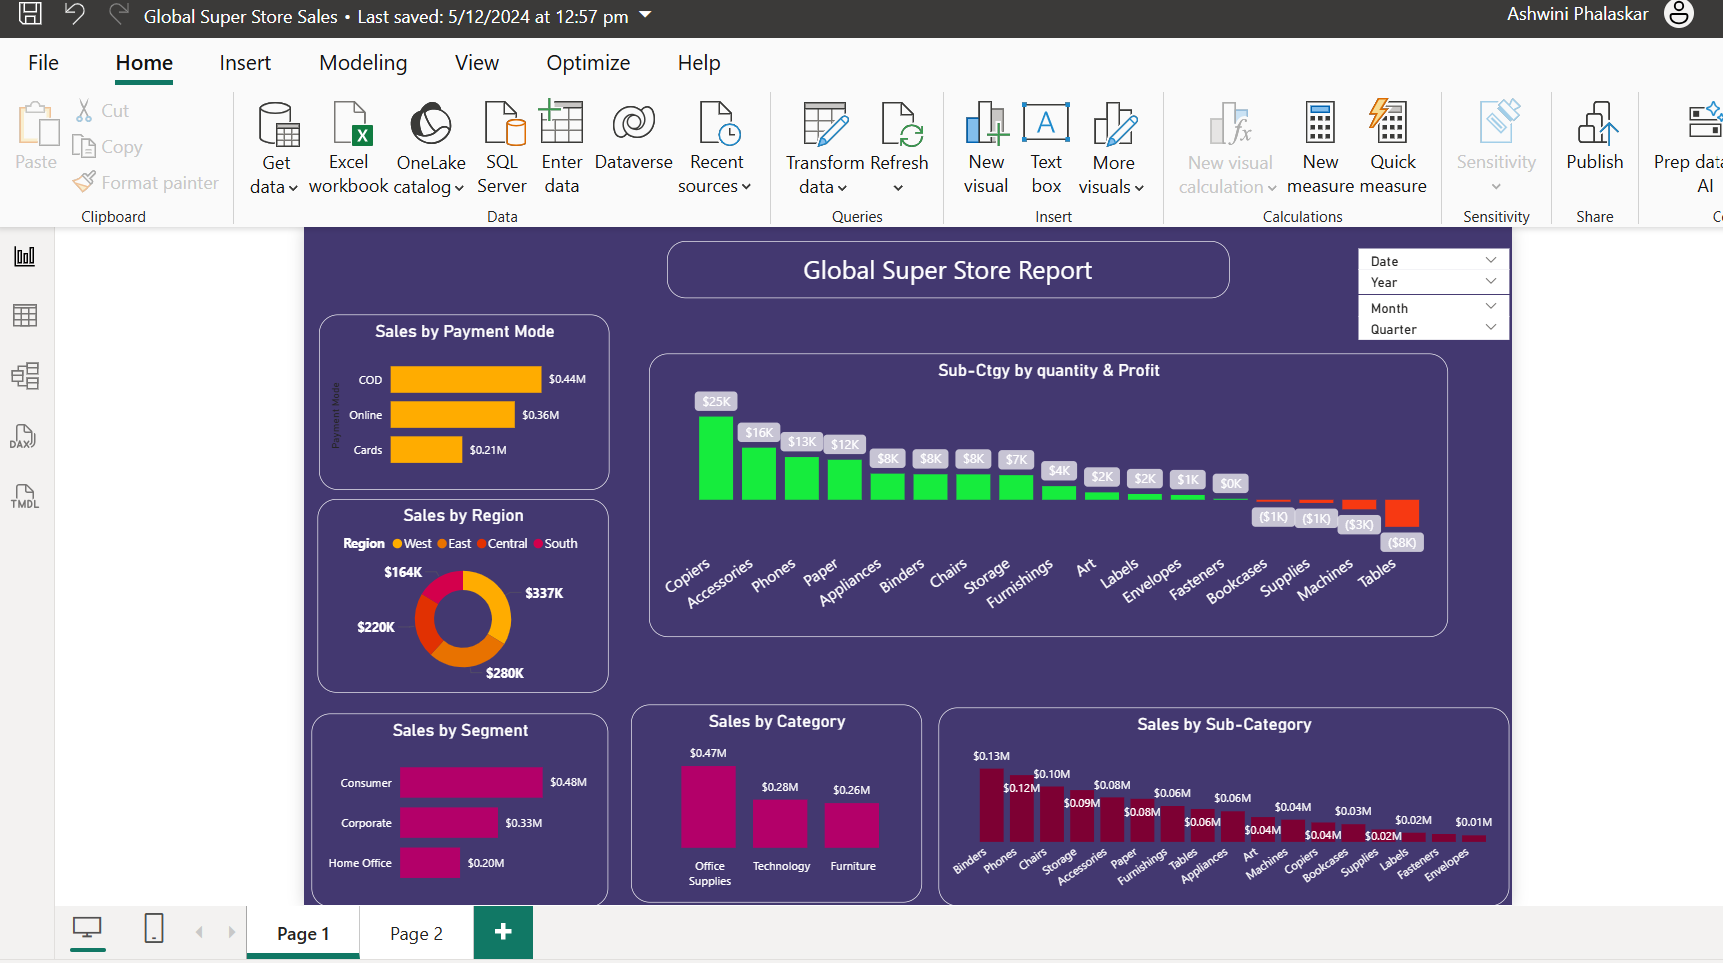

Layout of this report page (visuals, bound fields, positions):
{"tool":"powerbi","page":{"name":"Page 1","canvas":[1280,720],"ordinal":0},"visuals":[{"type":"slicer","title":"Year","fields":{"Values":["Global SuperStore_Sales_Dataset.Order Date.Variation.Date Hierarchy.Year"]},"box":[1118.2,46.8,159.7,25.9],"z":0,"group":"g1"},{"type":"barChart","title":"Sales by Payment Mode","fields":{"Y":["Sum(Global SuperStore_Sales_Dataset.Sales)"],"Category":["Global SuperStore_Sales_Dataset.Payment Mode"]},"box":[15.2,93.9,308.3,185.8],"z":0,"group":"g2"},{"type":"textbox","box":[384.5,15.3,596.5,60.4],"z":1000,"group":"g2"},{"type":"slicer","title":"Month","fields":{"Values":["Global SuperStore_Sales_Dataset.Order Date.Variation.Date Hierarchy.Month"]},"box":[1118.2,72.6,159.7,22.9],"z":1000,"group":"g1"},{"type":"group","id":"g1","title":"Slicer","box":[1118.2,23.9,159.1,97],"z":2000},{"type":"slicer","title":"Quarter","fields":{"Values":["Global SuperStore_Sales_Dataset.Order Date.Variation.Date Hierarchy.Quarter"]},"box":[1118.2,95.5,159.7,25.3],"z":2000,"group":"g1"},{"type":"donutChart","title":"Sales by Region","fields":{"Y":["Sum(Global SuperStore_Sales_Dataset.Sales)"],"Category":["Global SuperStore_Sales_Dataset.Region"]},"box":[14.4,289.5,308.6,205.2],"z":2000,"group":"g2"},{"type":"slicer","title":"Date","fields":{"Values":["Global SuperStore_Sales_Dataset.Order Date"]},"box":[1118.2,23.9,159.7,22.9],"z":3000,"group":"g1"},{"type":"columnChart","title":"Sales by Category","fields":{"Y":["Sum(Global SuperStore_Sales_Dataset.Sales)"],"Category":["Global SuperStore_Sales_Dataset.Category"]},"box":[345.6,506.3,308.6,210],"z":3000,"group":"g2"},{"type":"clusteredBarChart","title":"Sales by Segment","fields":{"Category":["Global SuperStore_Sales_Dataset.Segment"],"Y":["Sum(Global SuperStore_Sales_Dataset.Sales)"]},"box":[7.5,515.8,314.9,205.2],"z":4000,"group":"g2"},{"type":"group","id":"g2","title":"main visual","box":[7.5,15.3,1270.2,705.7],"z":5000},{"type":"columnChart","title":"Sales by Sub-Category","fields":{"Y":["Sum(Global SuperStore_Sales_Dataset.Sales)"],"Category":["Global SuperStore_Sales_Dataset.Sub-Category"]},"box":[672.1,509.5,605.6,210.5],"z":5000,"group":"g2"},{"type":"lineStackedColumnComboChart","title":"Sub-Ctgy by quantity & Profit","fields":{"Y":["Sum(Global SuperStore_Sales_Dataset.Profit)"],"Category":["Global SuperStore_Sales_Dataset.Sub-Category"]},"box":[365.9,135.2,847.2,300.7],"z":6000,"group":"g2"}]}

Visuals, with their boxes on the page's 1280x720 design canvas (x1, y1, x2, y2). These are canvas units, not pixel positions in the 1723x963 screenshot, which may show the page scaled, cropped or inside an application window:
"Year" slicer: bbox=(1118, 47, 1278, 73)
"Sales by Payment Mode" barChart: bbox=(15, 94, 324, 280)
textbox: bbox=(384, 15, 981, 76)
"Month" slicer: bbox=(1118, 73, 1278, 96)
"Slicer" group: bbox=(1118, 24, 1277, 121)
"Quarter" slicer: bbox=(1118, 96, 1278, 121)
"Sales by Region" donutChart: bbox=(14, 290, 323, 495)
"Date" slicer: bbox=(1118, 24, 1278, 47)
"Sales by Category" columnChart: bbox=(346, 506, 654, 716)
"Sales by Segment" clusteredBarChart: bbox=(8, 516, 322, 721)
"main visual" group: bbox=(8, 15, 1278, 721)
"Sales by Sub-Category" columnChart: bbox=(672, 510, 1278, 720)
"Sub-Ctgy by quantity & Profit" lineStackedColumnComboChart: bbox=(366, 135, 1213, 436)
